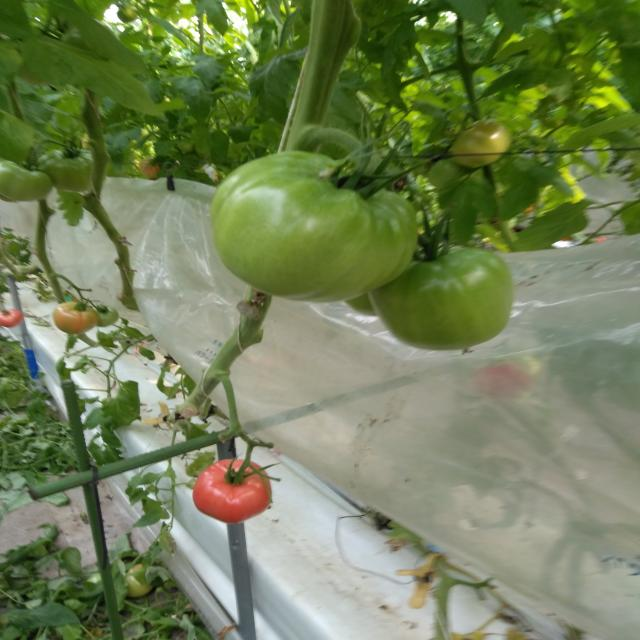yesil: (199, 92, 519, 374)
